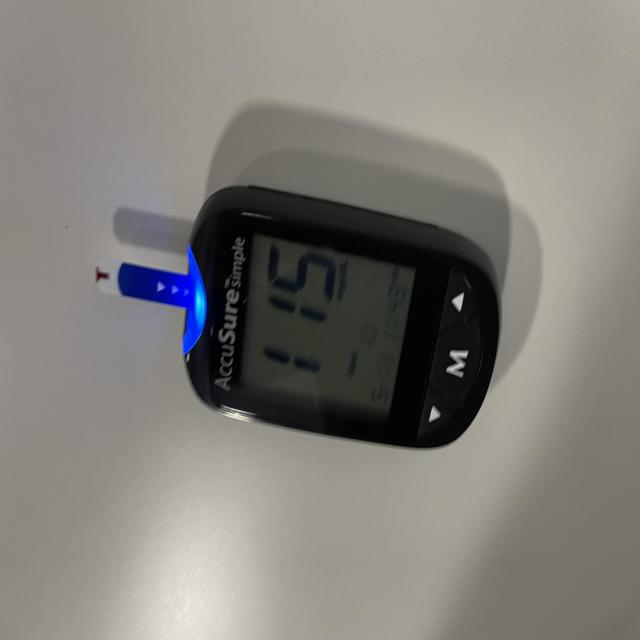gluco: (117, 104, 516, 452)
